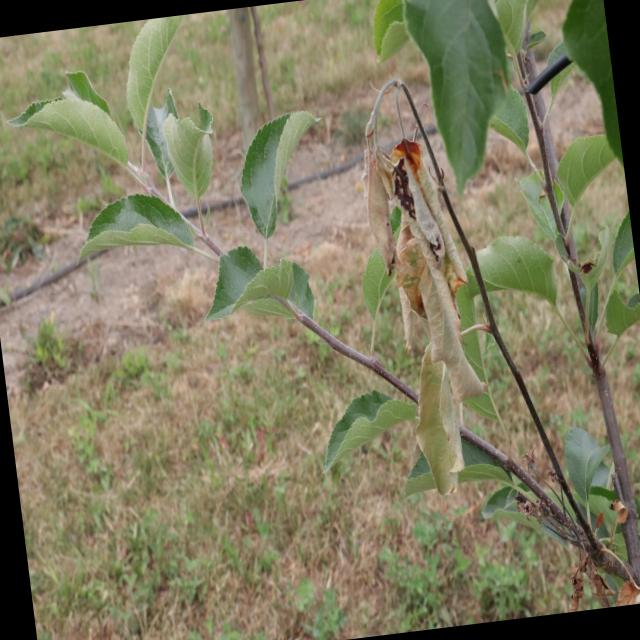-FireBlight-: (325, 86, 503, 516)
